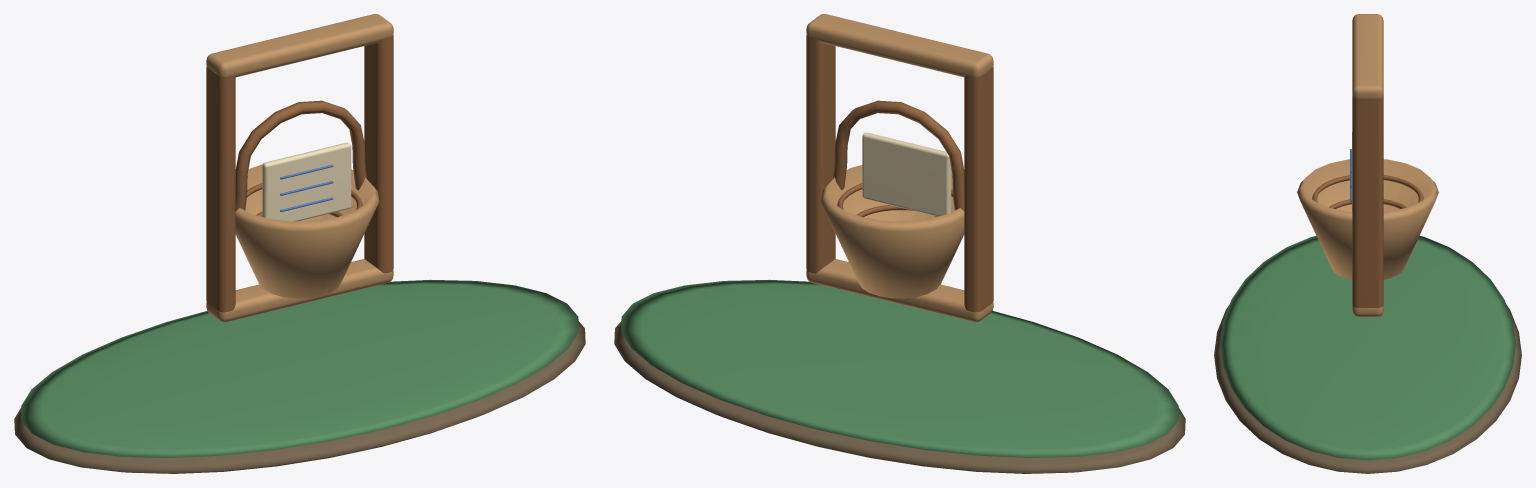
The model's file is complete-second-inside-container-content.glb.
The picture shows the model from 3 angles, left to right: view 1: azimuth 30°, elevation 25°; view 2: azimuth 150°, elevation 25°; view 3: azimuth 270°, elevation 25°; orthographic projection. The views are drawn at different scales.
Parts seen in each view (by area): view 1: complete-second-inside-container-content_surface_01, complete-second-inside-container-content_surface_03, complete-second-inside-container-content_surface_02, complete-second-inside-container-content_surface_00, complete-second-inside-container-content_surface_04; view 2: complete-second-inside-container-content_surface_01, complete-second-inside-container-content_surface_03, complete-second-inside-container-content_surface_02, complete-second-inside-container-content_surface_00, complete-second-inside-container-content_surface_04; view 3: complete-second-inside-container-content_surface_01, complete-second-inside-container-content_surface_03, complete-second-inside-container-content_surface_02, complete-second-inside-container-content_surface_00.
Part boxes in pixels (left/top/right/bottom): complete-second-inside-container-content_surface_01: left=21, top=279, right=578, bottom=457; complete-second-inside-container-content_surface_03: left=206, top=14, right=393, bottom=322; complete-second-inside-container-content_surface_02: left=206, top=35, right=393, bottom=312; complete-second-inside-container-content_surface_00: left=14, top=321, right=585, bottom=473; complete-second-inside-container-content_surface_04: left=262, top=142, right=351, bottom=221; complete-second-inside-container-content_surface_01: left=621, top=279, right=1178, bottom=457; complete-second-inside-container-content_surface_03: left=806, top=14, right=993, bottom=322; complete-second-inside-container-content_surface_02: left=806, top=35, right=993, bottom=312; complete-second-inside-container-content_surface_00: left=614, top=321, right=1185, bottom=473; complete-second-inside-container-content_surface_04: left=862, top=132, right=951, bottom=216; complete-second-inside-container-content_surface_01: left=1220, top=235, right=1515, bottom=460; complete-second-inside-container-content_surface_03: left=1297, top=14, right=1438, bottom=316; complete-second-inside-container-content_surface_02: left=1312, top=95, right=1423, bottom=307; complete-second-inside-container-content_surface_00: left=1214, top=305, right=1521, bottom=473.
Bounding box in the file's own units: 4.56 × 2.87 × 2.5.
